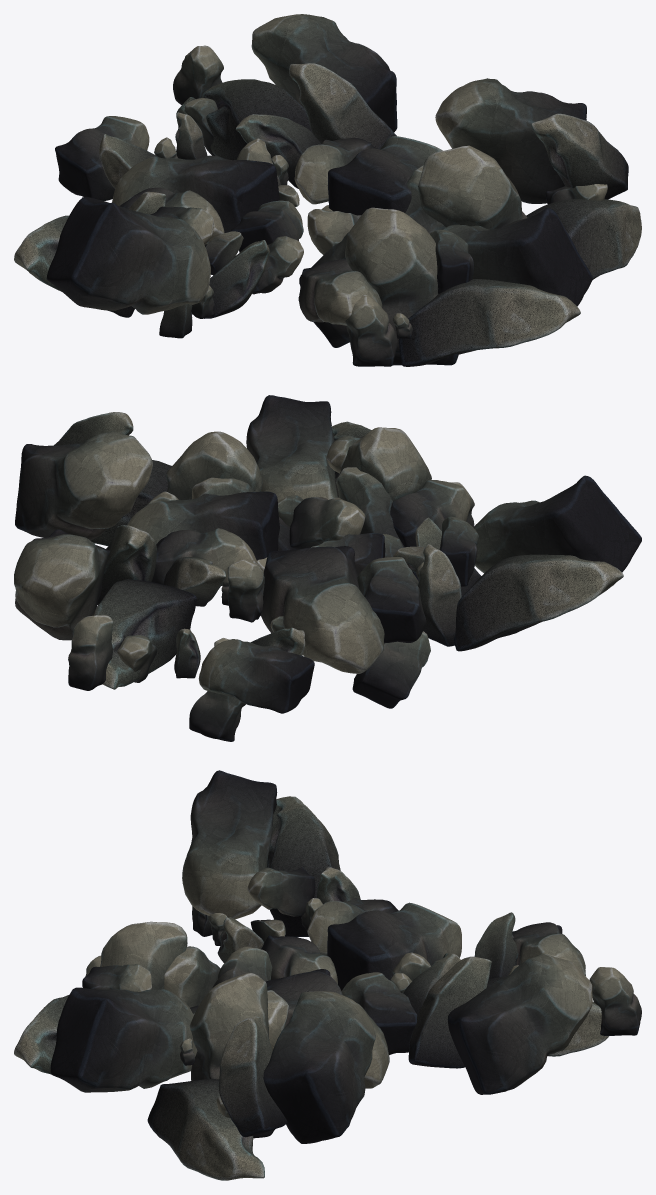
Rendered from rock_B.fbx.
3 views of the same model, one above another, from view 1: azimuth 30°, elevation 25°; view 2: azimuth 150°, elevation 25°; view 3: azimuth 270°, elevation 25° (orthographic). The views are drawn at different scales.
Parts seen in each view (by area): view 1: DecorRocks_LowPoly_B__31_.003, DecorRocks_LowPoly_C__34_.002, DecorRocks_LowPoly_B__36_.002, DecorRocks_LowPoly_B__36_.003, DecorRocks_LowPoly_B__116__1.003, DecorRocks_LowPoly_B__31_.002, DecorRocks_LowPoly_B__116_.002, DecorRocks_LowPoly_B__116__1.002, DecorRocks_LowPoly_B__116_.003, DecorRocks_LowPoly_C__36_.003, DecorRocks_LowPoly_C__35_.003, DecorRocks_LowPoly_C__35_.002 (+25 smaller); view 2: DecorRocks_LowPoly_B__36_.002, DecorRocks_LowPoly_B__116_.002, DecorRocks_LowPoly_B__31_.003, DecorRocks_LowPoly_C__34_.003, DecorRocks_LowPoly_B__36_.003, DecorRocks_LowPoly_B__31_.002, DecorRocks_LowPoly_C__36_.002, DecorRocks_LowPoly_B__115__1.002, DecorRocks_LowPoly_B__116_.003, DecorRocks_LowPoly_B__115_.002, DecorRocks_LowPoly_B__116__1.003, DecorRocks_LowPoly_B__116__1.002 (+23 smaller); view 3: DecorRocks_LowPoly_B__36_.003, DecorRocks_LowPoly_B__31_.002, DecorRocks_LowPoly_B__36_.002, DecorRocks_LowPoly_B__31_.003, DecorRocks_LowPoly_C__36_.003, DecorRocks_LowPoly_B__116_.002, DecorRocks_LowPoly_C__35_.002, DecorRocks_LowPoly_B__116__1.002, DecorRocks_LowPoly_C__35_.003, DecorRocks_LowPoly_C__34_.003, DecorRocks_LowPoly_B__116__1.003, DecorRocks_LowPoly_B__115_.003 (+17 smaller).
Boxes of the visible parts, <box> form: DecorRocks_LowPoly_B__31_.003: <box>46,196,210,314</box>; DecorRocks_LowPoly_C__34_.002: <box>398,279,580,366</box>; DecorRocks_LowPoly_B__36_.002: <box>435,78,586,203</box>; DecorRocks_LowPoly_B__36_.003: <box>251,14,397,132</box>; DecorRocks_LowPoly_B__116__1.003: <box>345,207,458,365</box>; DecorRocks_LowPoly_B__31_.002: <box>442,208,592,306</box>; DecorRocks_LowPoly_B__116_.002: <box>112,155,279,246</box>; DecorRocks_LowPoly_B__116__1.002: <box>418,145,527,229</box>; DecorRocks_LowPoly_B__116_.003: <box>327,136,442,215</box>; DecorRocks_LowPoly_C__36_.003: <box>526,199,641,279</box>; DecorRocks_LowPoly_C__35_.003: <box>289,63,396,149</box>; DecorRocks_LowPoly_C__35_.002: <box>531,113,628,199</box>; DecorRocks_LowPoly_B__36_.002: <box>15,431,152,540</box>; DecorRocks_LowPoly_B__116_.002: <box>261,546,384,673</box>; DecorRocks_LowPoly_B__31_.003: <box>474,475,641,573</box>; DecorRocks_LowPoly_C__34_.003: <box>453,554,623,651</box>; DecorRocks_LowPoly_B__36_.003: <box>14,529,110,640</box>; DecorRocks_LowPoly_B__31_.002: <box>246,395,337,501</box>; DecorRocks_LowPoly_C__36_.002: <box>92,579,196,689</box>; DecorRocks_LowPoly_B__115__1.002: <box>198,639,314,713</box>; DecorRocks_LowPoly_B__116_.003: <box>127,491,279,585</box>; DecorRocks_LowPoly_B__115_.002: <box>357,557,426,642</box>; DecorRocks_LowPoly_B__116__1.003: <box>335,427,431,501</box>; DecorRocks_LowPoly_B__116__1.002: <box>166,431,262,585</box>; DecorRocks_LowPoly_B__36_.003: <box>447,953,592,1094</box>; DecorRocks_LowPoly_B__31_.002: <box>50,987,197,1092</box>; DecorRocks_LowPoly_B__36_.002: <box>263,991,375,1143</box>; DecorRocks_LowPoly_B__31_.003: <box>182,770,277,919</box>; DecorRocks_LowPoly_C__36_.003: <box>147,1079,264,1180</box>; DecorRocks_LowPoly_B__116_.002: <box>327,902,461,990</box>; DecorRocks_LowPoly_C__35_.002: <box>218,1016,287,1136</box>; DecorRocks_LowPoly_B__116__1.002: <box>190,973,275,1138</box>; DecorRocks_LowPoly_C__35_.003: <box>408,956,491,1068</box>; DecorRocks_LowPoly_C__34_.003: <box>267,796,340,937</box>; DecorRocks_LowPoly_B__116__1.003: <box>100,921,187,989</box>; DecorRocks_LowPoly_B__115_.003: <box>341,972,417,1054</box>.
Bounding box in the file's own units: 164 × 54.22 × 155.
